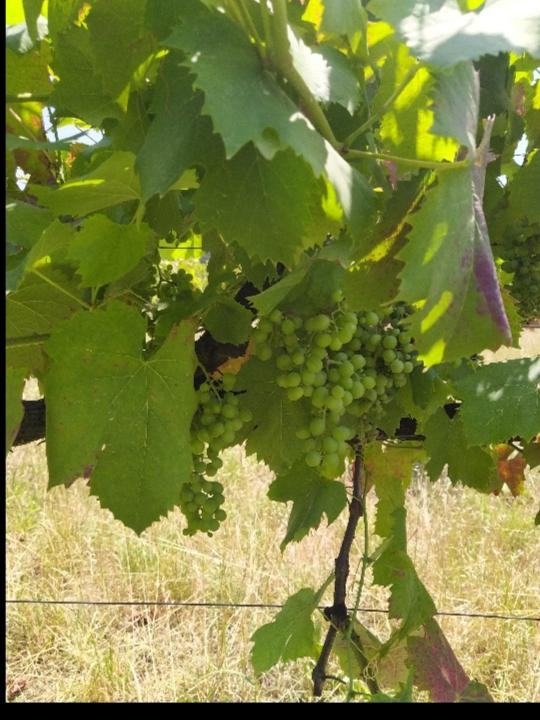grape: (256, 309, 421, 486), (180, 376, 253, 541)
